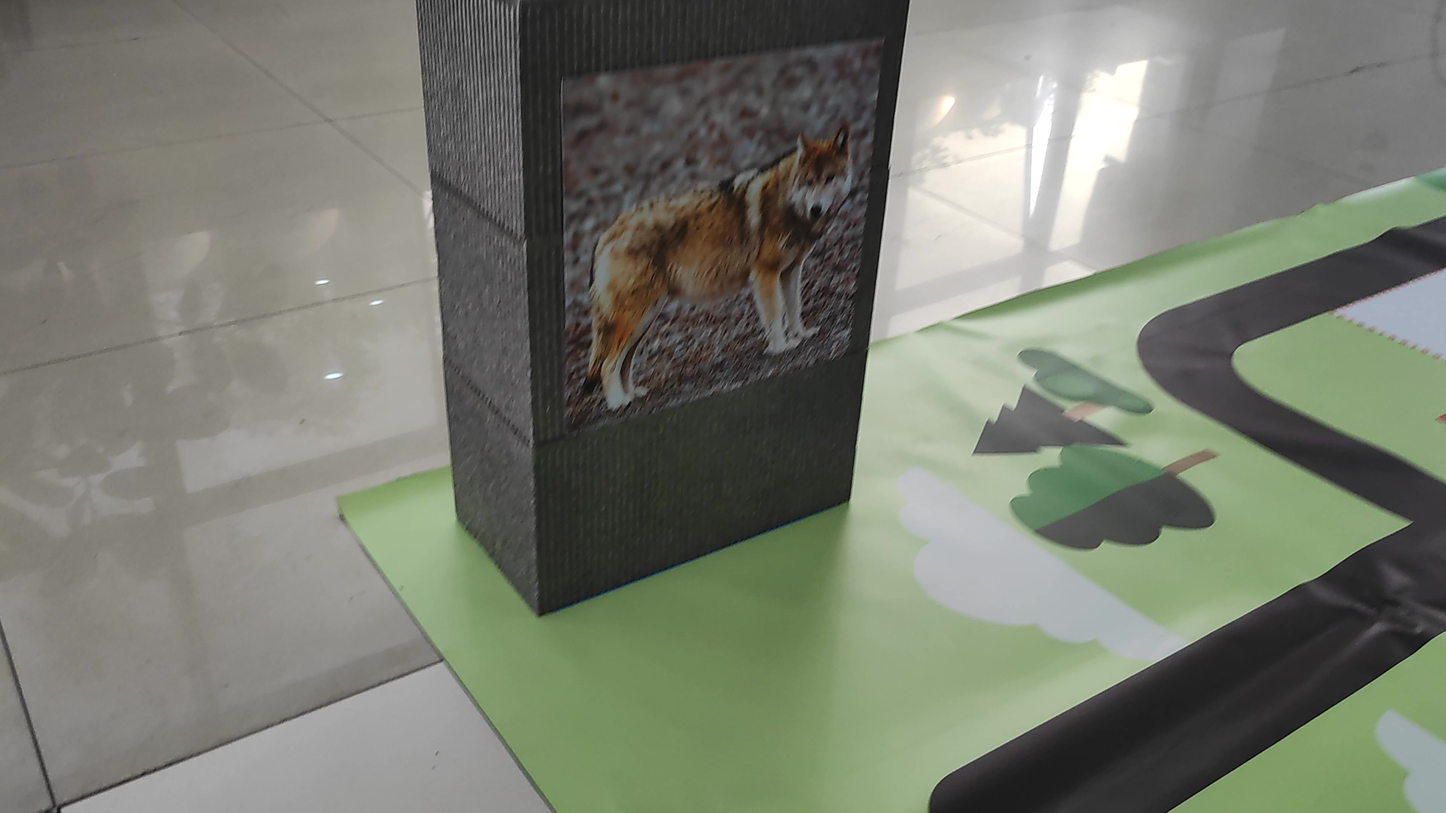wolf: (556, 82, 871, 411)
